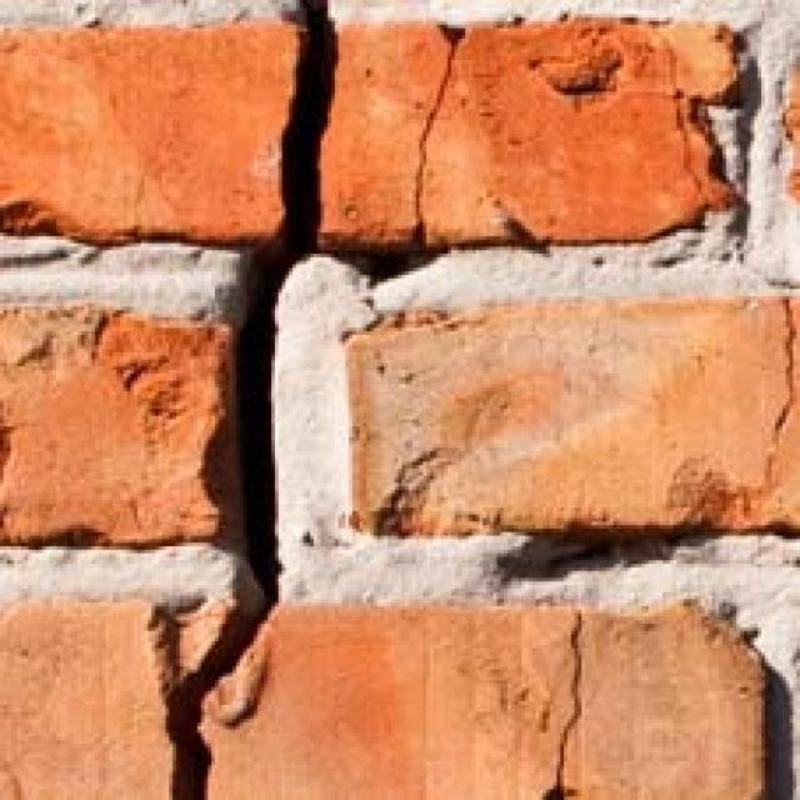crack: (169, 0, 338, 799), (331, 26, 466, 284), (497, 524, 718, 585), (540, 609, 588, 799), (772, 295, 799, 434)
